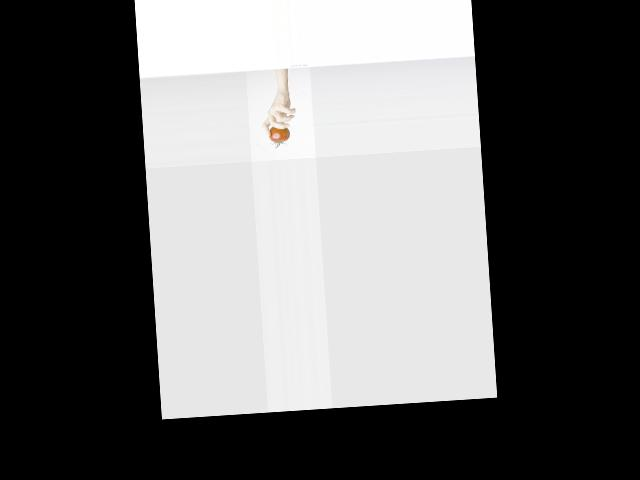tomato: (269, 126, 290, 148)
